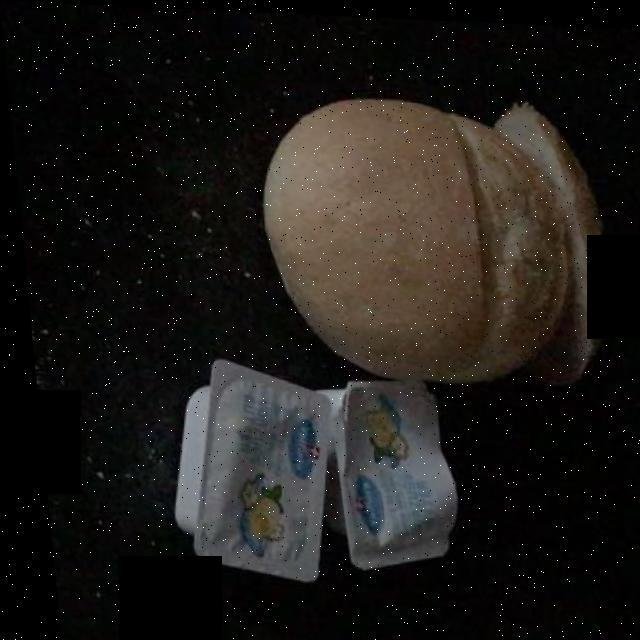bread: (268, 94, 599, 372)
butter: (150, 373, 459, 599)
